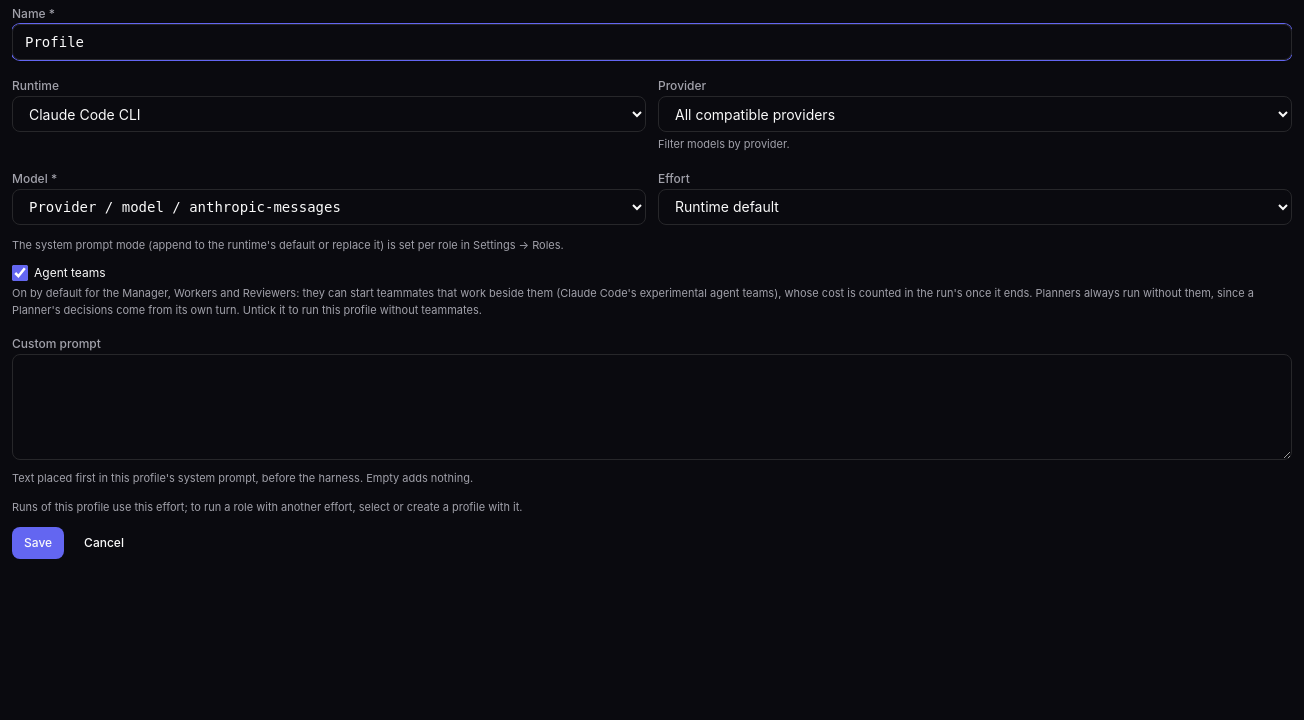
Scenario: Agent Profiles › requires a registered compatible DSH model even when the provider has suggestions
Expected: the label "Runtime" is shown, [12,78,59,93]
Select "DSH CLI" in the dropdown labelled "Runtime" at (329, 114), box [12,96,646,132]
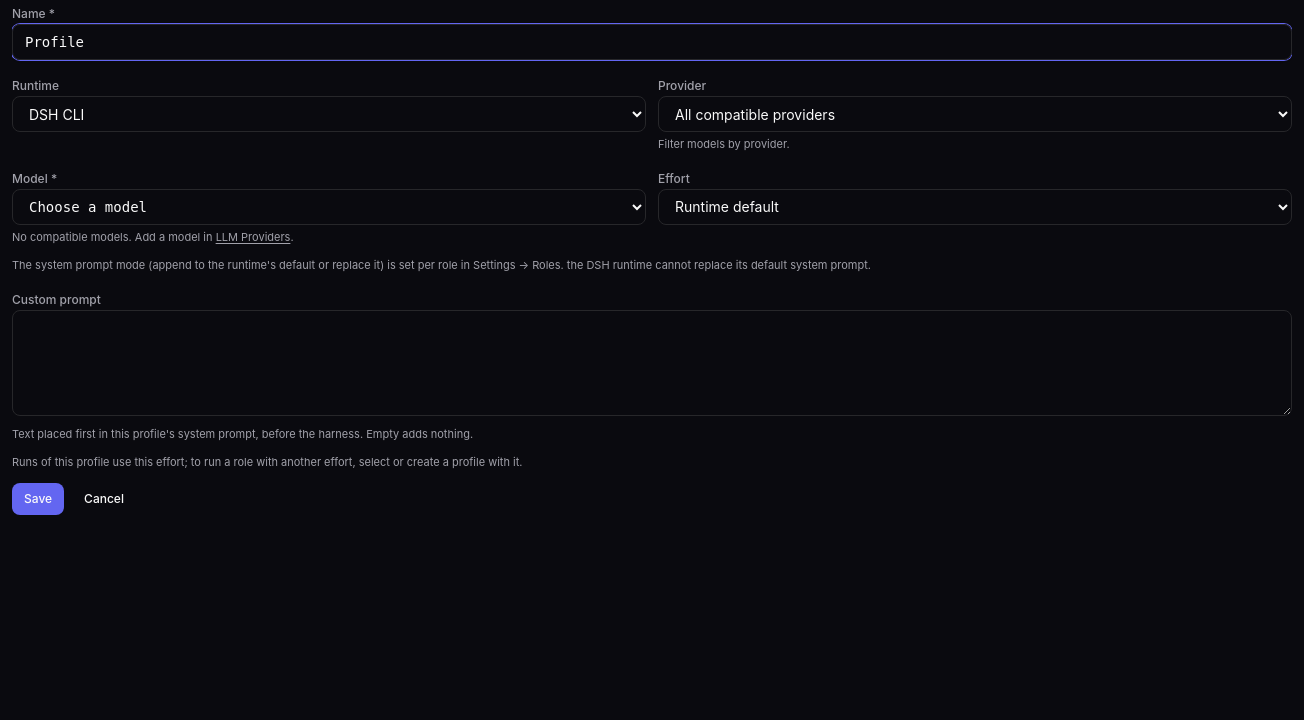
Expected: the label "Model *" is shown, [12,170,57,186]
Now the text "No compatible models" is shown, box [12,230,216,244]
Submit the form
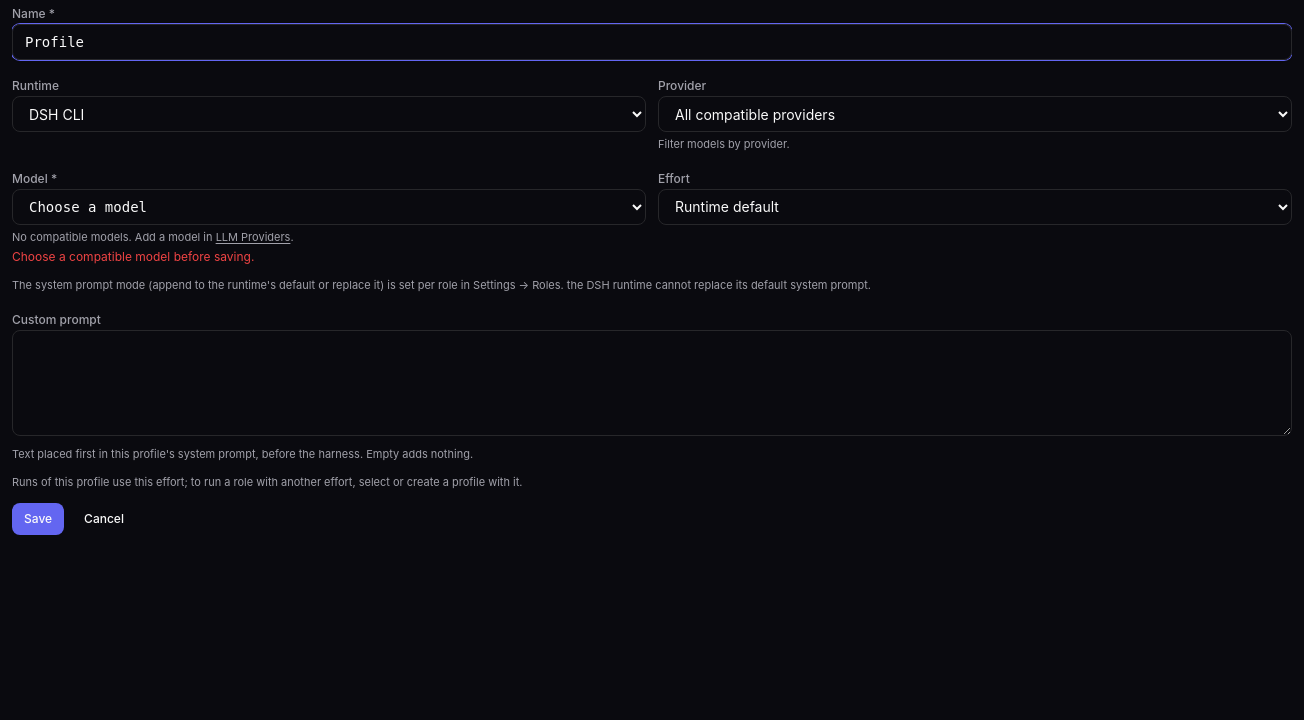
Now the message "Choose a compatible model before saving." is shown, box [12,249,254,264]
